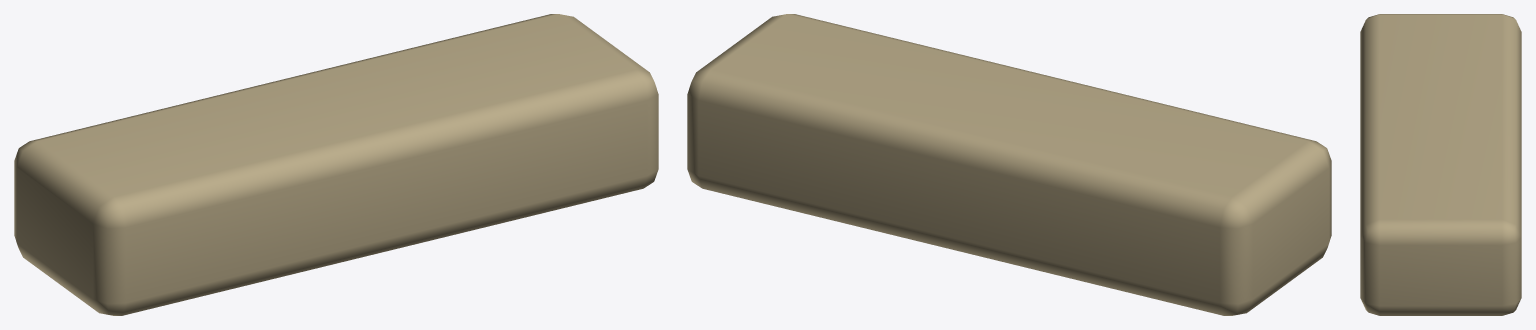
Rendered from border_stone.glb.
The picture shows the model from 3 angles, left to right: view 1: azimuth 30°, elevation 25°; view 2: azimuth 150°, elevation 25°; view 3: azimuth 270°, elevation 25°; orthographic projection. The views are drawn at different scales.
Parts seen in each view (by area): view 1: BorderStone; view 2: BorderStone; view 3: BorderStone.
Boxes of the visible parts, bbox=[...] form: BorderStone: bbox=[14, 14, 658, 315]; BorderStone: bbox=[687, 14, 1331, 315]; BorderStone: bbox=[1360, 14, 1521, 315].
Size of the model in its own units: 0.94 by 0.19 by 0.29.
